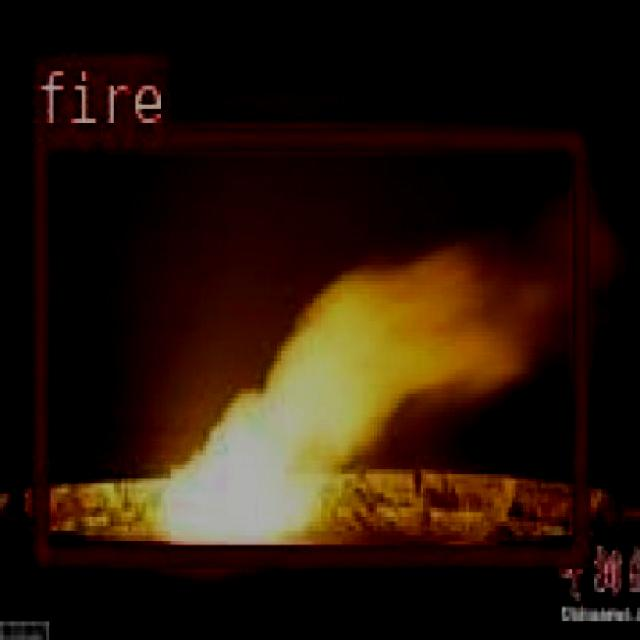fire: (28, 127, 587, 564)
